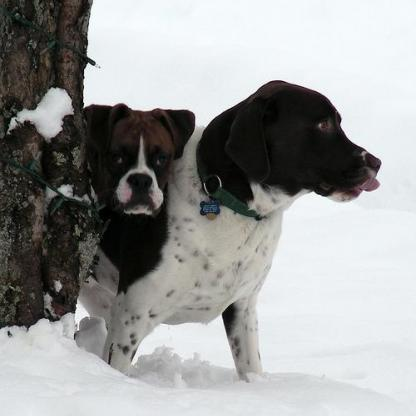English_springer: (88, 73, 382, 384)
